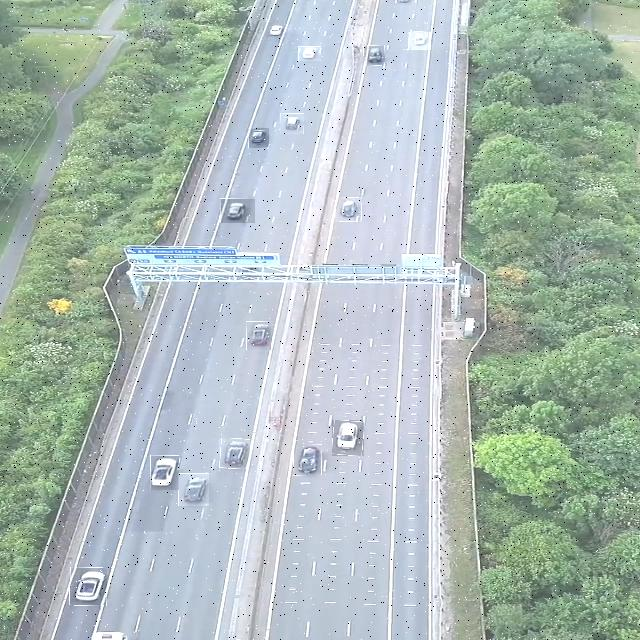Car: (70, 568, 107, 606), (332, 420, 364, 456), (178, 473, 209, 506), (150, 455, 179, 490), (219, 439, 250, 469), (294, 444, 322, 476), (220, 198, 255, 223), (246, 321, 271, 350), (336, 198, 362, 222), (280, 113, 304, 134), (364, 46, 385, 66), (248, 128, 269, 148), (409, 32, 431, 50), (263, 21, 285, 37), (298, 46, 321, 61)
